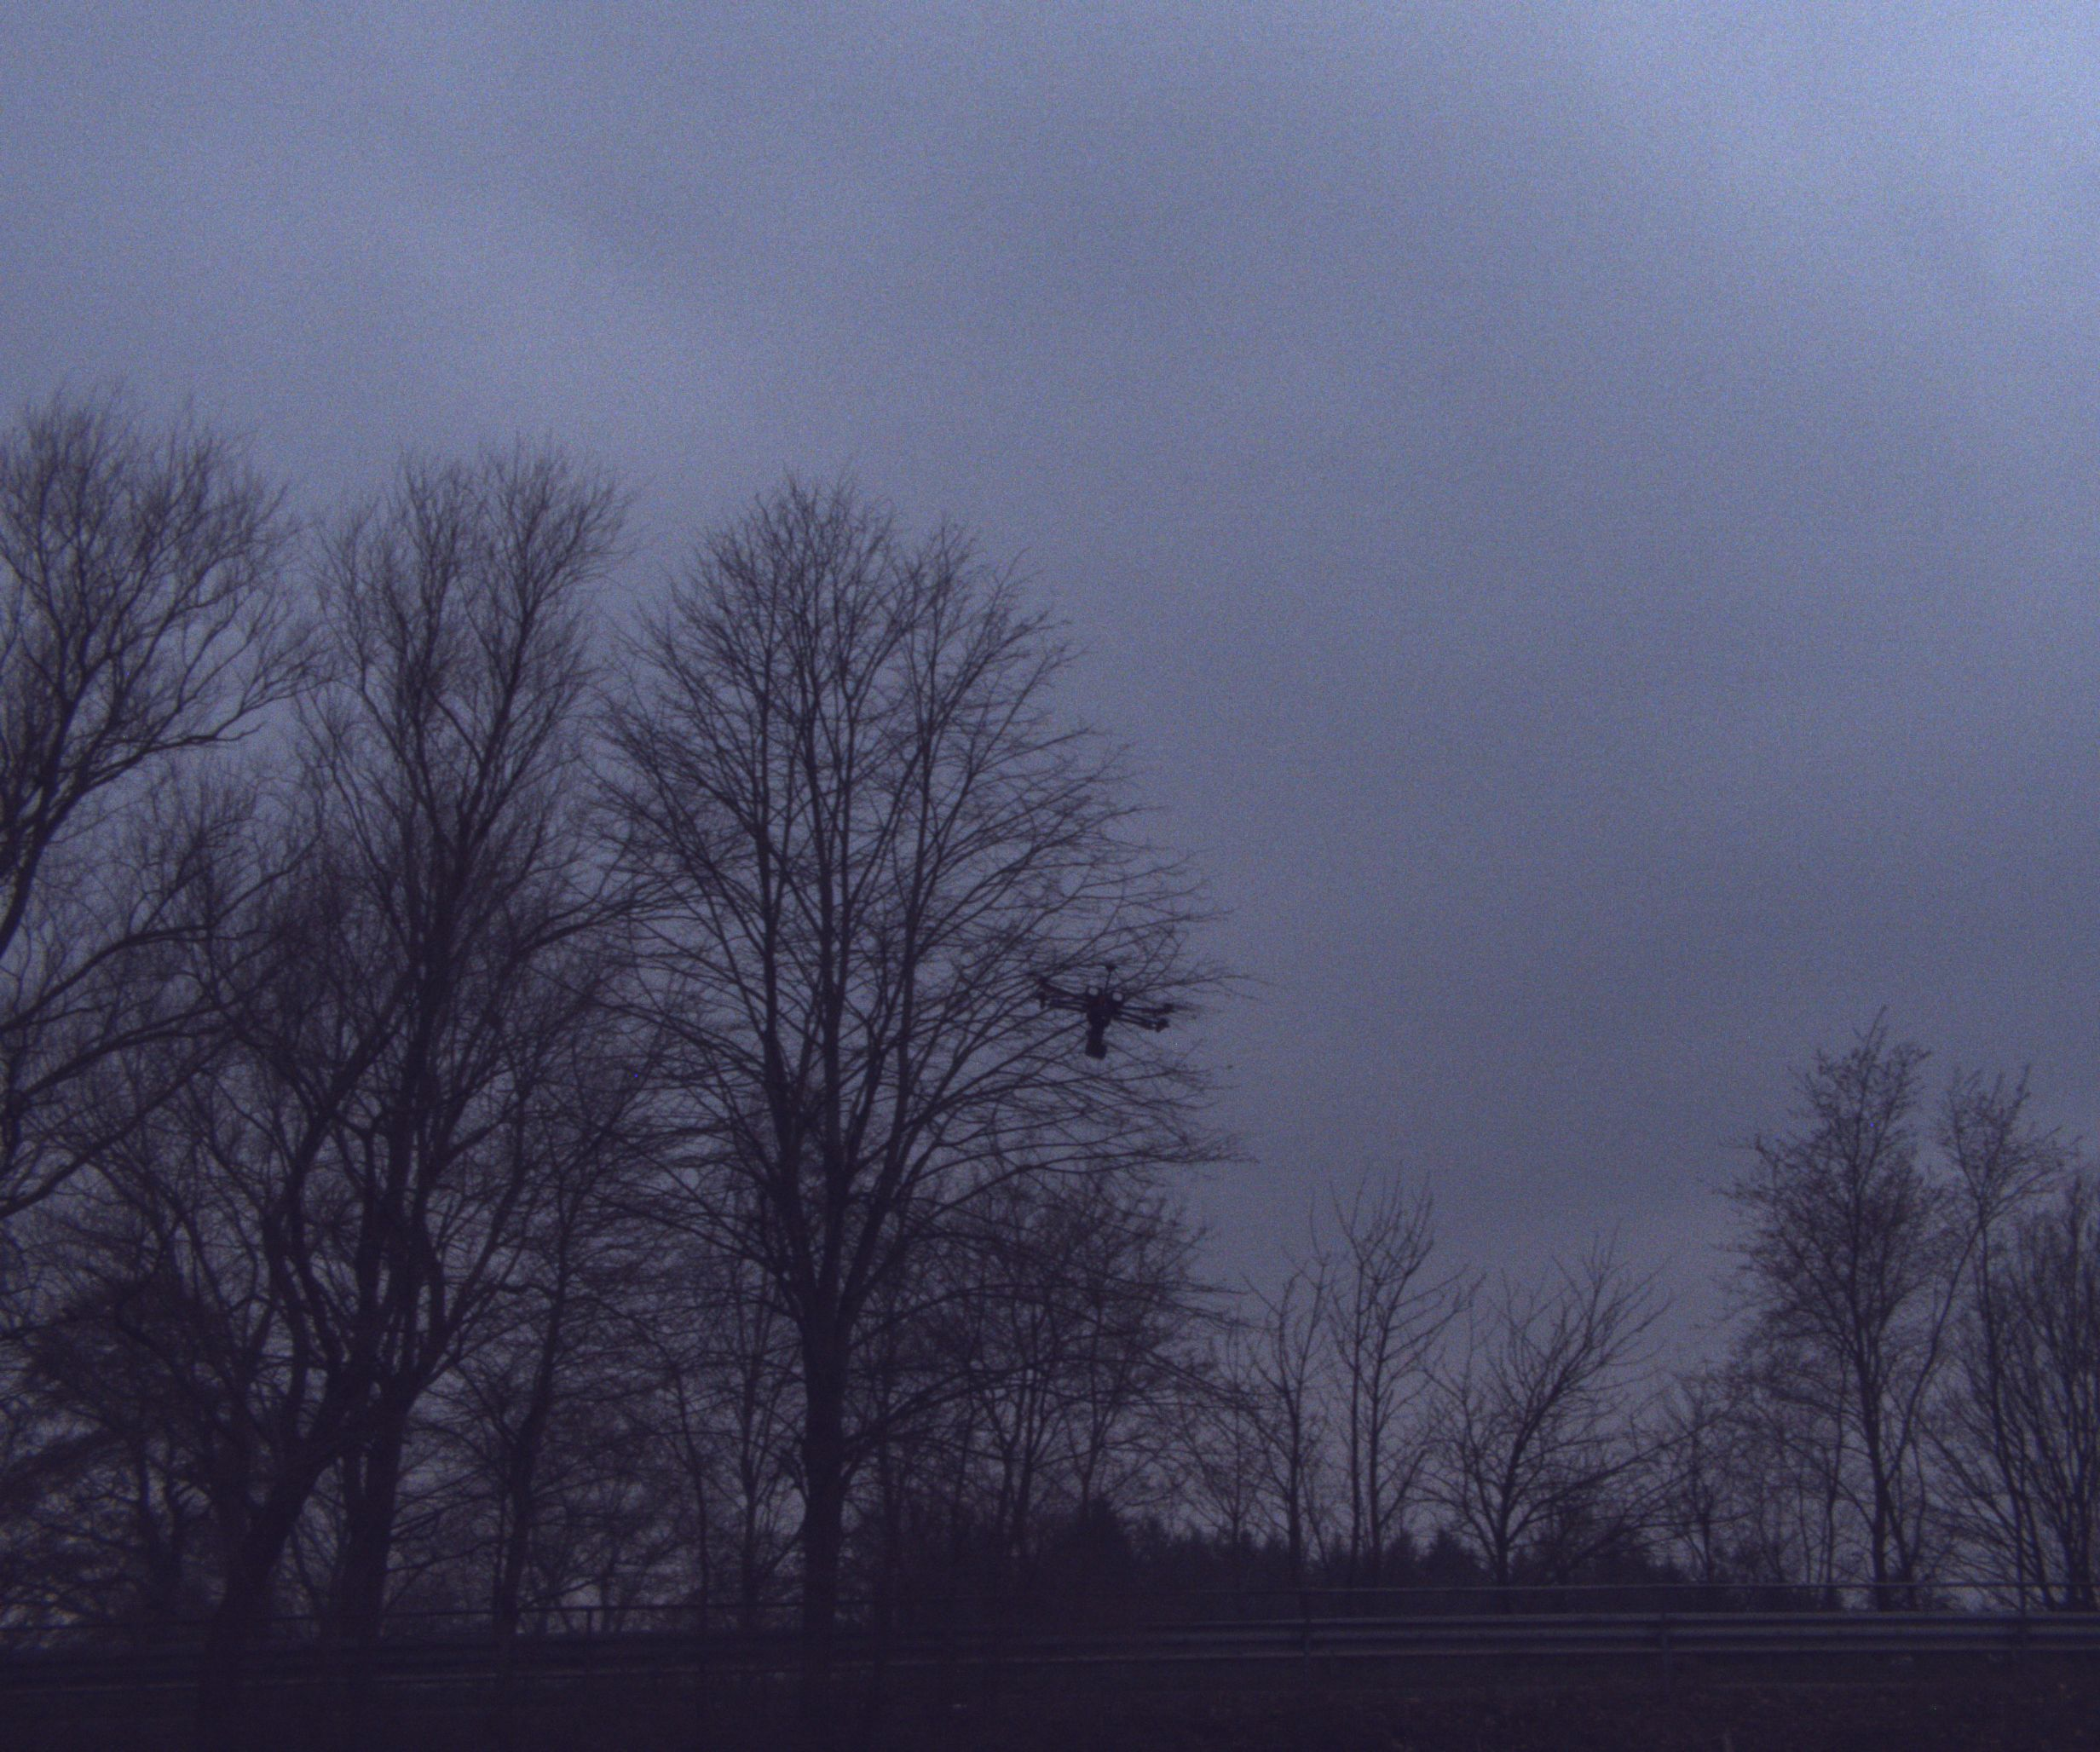Drohne: (1010, 920, 1233, 1107)
